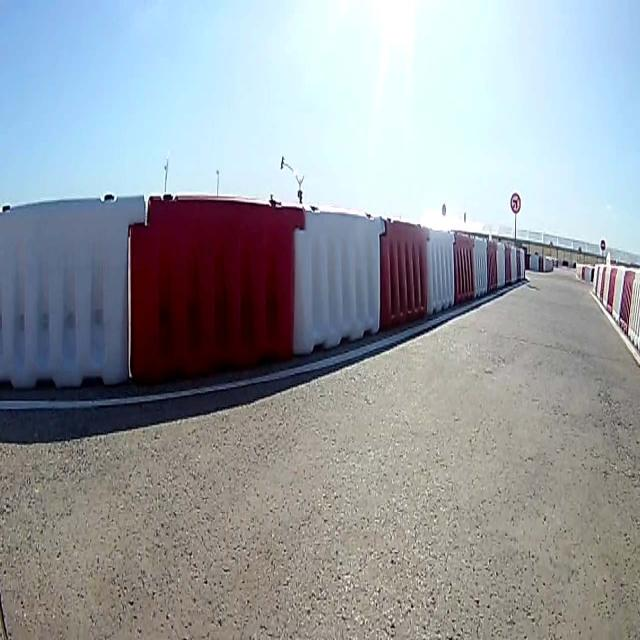soladonulmez: (510, 193, 522, 212)
